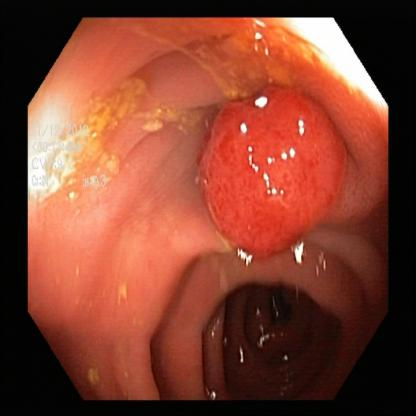Labels: (24, 88, 124, 194)
Polyps: (188, 100, 343, 252)
